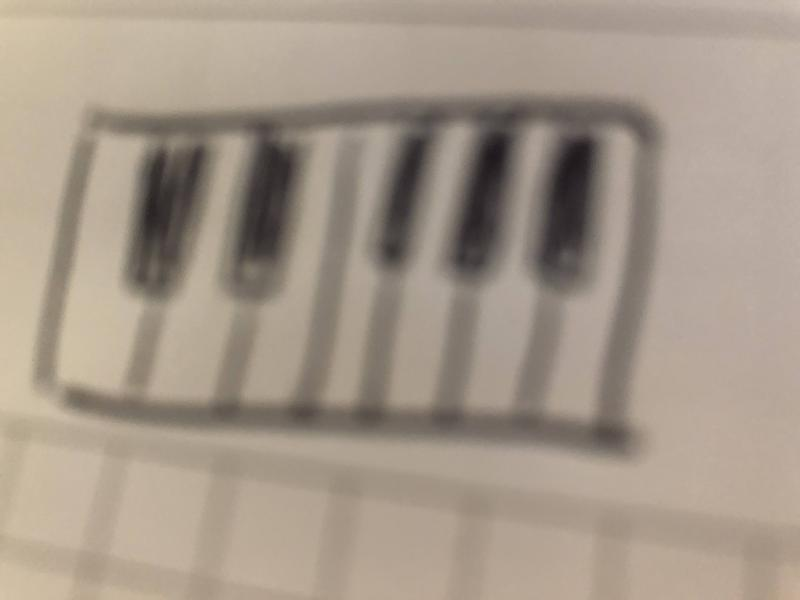piano: (36, 77, 677, 461)
